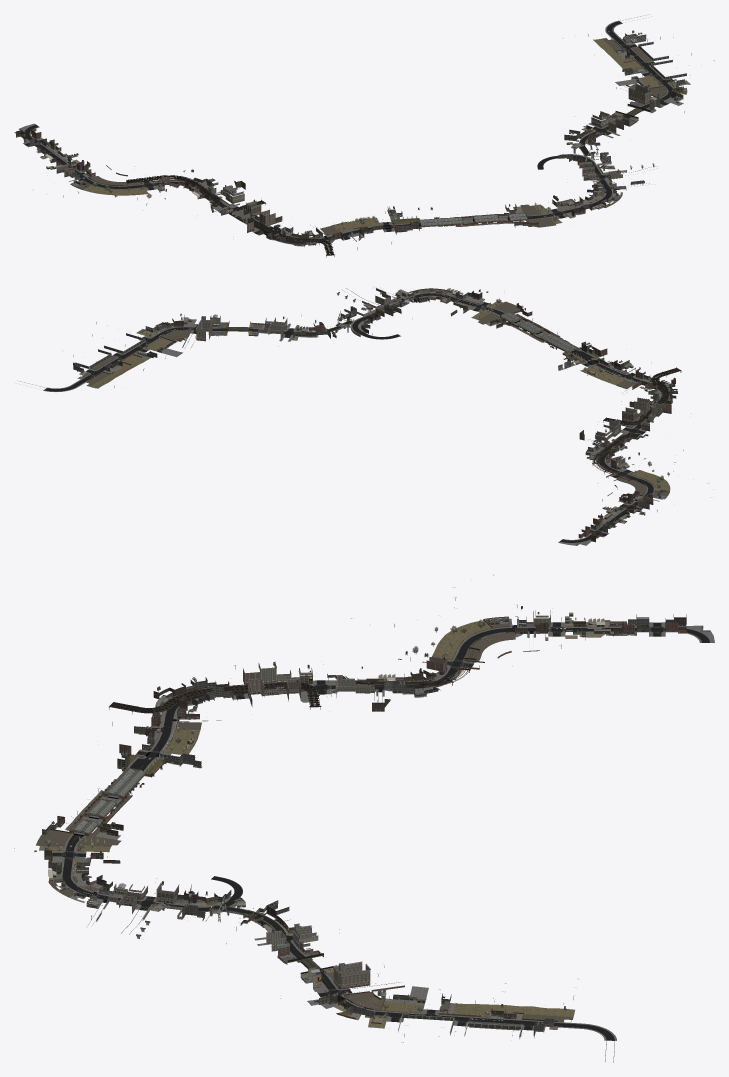
Rendered from city_q.glb.
The picture shows the model from 3 angles, top to bottom: view 1: azimuth 30°, elevation 25°; view 2: azimuth 150°, elevation 25°; view 3: azimuth 270°, elevation 25°; orthographic projection. The views are drawn at different scales.
Parts seen in each view (by area): view 1: region01_env/environment_background/MergeGroup-buildings_war, region01_env/environment_background/MergeGroup-ground_textur, region01_env/environment_background/MergeGroup-buildings_her, region01_env/road_00/MergeGroup-roadDirtShader_wssuv1-fx/Mer, region01_env/environment_background/MergeGroup-sidewalk_offs, region01_env/environment_background/MergeGroup-props_overpas, region01_env/environment_background/MergeGroup-props_alphath, region01_env/environment_background/MergeGroup-walls_a1_nody, region01_env/environment_background/MergeGroup-walls_b2-fx/M, region01_env/environment_background/MergeGroup-props_dressin; view 2: region01_env/environment_background/MergeGroup-buildings_war, region01_env/environment_background/MergeGroup-ground_textur, region01_env/environment_background/MergeGroup-buildings_her, region01_env/road_00/MergeGroup-roadDirtShader_wssuv1-fx/Mer, region01_env/environment_background/MergeGroup-sidewalk_offs, region01_env/environment_background/MergeGroup-props_overpas, region01_env/environment_background/MergeGroup-props_alphath, region01_env/environment_background/MergeGroup-walls_a1_nody, region01_env/environment_background/MergeGroup-walls_b2-fx/M; view 3: region01_env/environment_background/MergeGroup-buildings_war, region01_env/environment_background/MergeGroup-ground_textur, region01_env/road_00/MergeGroup-roadDirtShader_wssuv1-fx/Mer, region01_env/environment_background/MergeGroup-buildings_her, region01_env/environment_background/MergeGroup-sidewalk_offs, region01_env/environment_background/MergeGroup-props_overpas, region01_env/environment_background/MergeGroup-props_alphath, region01_env/environment_background/MergeGroup-walls_a1_nody.
Boxes of the visible parts, box(x1,y1,x2,y2) form: region01_env/environment_background/MergeGroup-buildings_war: box(16, 33, 684, 246); region01_env/environment_background/MergeGroup-ground_textur: box(21, 38, 690, 235); region01_env/environment_background/MergeGroup-buildings_her: box(56, 83, 660, 243); region01_env/road_00/MergeGroup-roadDirtShader_wssuv1-fx/Mer: box(24, 21, 673, 243); region01_env/environment_background/MergeGroup-sidewalk_offs: box(14, 14, 675, 246); region01_env/environment_background/MergeGroup-props_overpas: box(126, 142, 654, 257); region01_env/environment_background/MergeGroup-props_alphath: box(47, 47, 676, 231); region01_env/environment_background/MergeGroup-walls_a1_nody: box(70, 59, 687, 243); region01_env/environment_background/MergeGroup-walls_b2-fx/M: box(106, 41, 686, 241); region01_env/environment_background/MergeGroup-props_dressin: box(53, 30, 680, 242); region01_env/environment_background/MergeGroup-buildings_war: box(73, 288, 677, 542); region01_env/environment_background/MergeGroup-ground_textur: box(77, 289, 670, 541); region01_env/environment_background/MergeGroup-buildings_her: box(195, 292, 672, 509); region01_env/road_00/MergeGroup-roadDirtShader_wssuv1-fx/Mer: box(44, 293, 668, 542); region01_env/environment_background/MergeGroup-sidewalk_offs: box(17, 286, 672, 545); region01_env/environment_background/MergeGroup-props_overpas: box(335, 292, 681, 482); region01_env/environment_background/MergeGroup-props_alphath: box(90, 298, 669, 525); region01_env/environment_background/MergeGroup-walls_a1_nody: box(120, 300, 652, 489); region01_env/environment_background/MergeGroup-walls_b2-fx/M: box(75, 299, 635, 495); region01_env/environment_background/MergeGroup-buildings_war: box(42, 612, 686, 1037); region01_env/environment_background/MergeGroup-ground_textur: box(36, 617, 688, 1032); region01_env/road_00/MergeGroup-roadDirtShader_wssuv1-fx/Mer: box(52, 622, 709, 1040); region01_env/environment_background/MergeGroup-buildings_her: box(99, 610, 550, 989); region01_env/environment_background/MergeGroup-sidewalk_offs: box(52, 618, 714, 1062); region01_env/environment_background/MergeGroup-props_overpas: box(109, 647, 480, 938); region01_env/environment_background/MergeGroup-props_alphath: box(45, 619, 636, 1025); region01_env/environment_background/MergeGroup-walls_a1_nody: box(122, 622, 533, 1019).
Bounding box in the file's own units: 21.05 × 0.7059 × 13.39.
35 materials, 32 textured.
